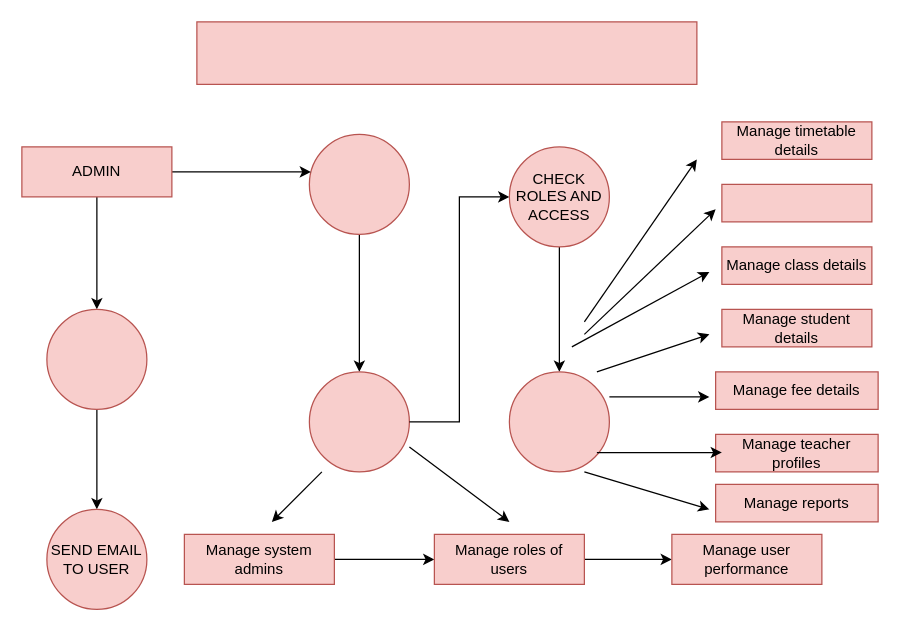
The diagram is 900 pixels wide and 631 high, and some of its shapes have lost their labels. The shapes that lost their labels are listed below. From the top down, each one's box as (x1, y1, x2, y2) in pixels, then its label:
(196, 21, 697, 84): STUDENT INFORMATION SYSTEM
(308, 133, 409, 234): LOGIN TO SYSTEM
(721, 183, 872, 222): Manage attendance details
(46, 308, 147, 409): FORGOT PASSWORD
(308, 371, 409, 472): CHECK CREDENTIALS
(508, 371, 609, 472): MANAGE MODULES
